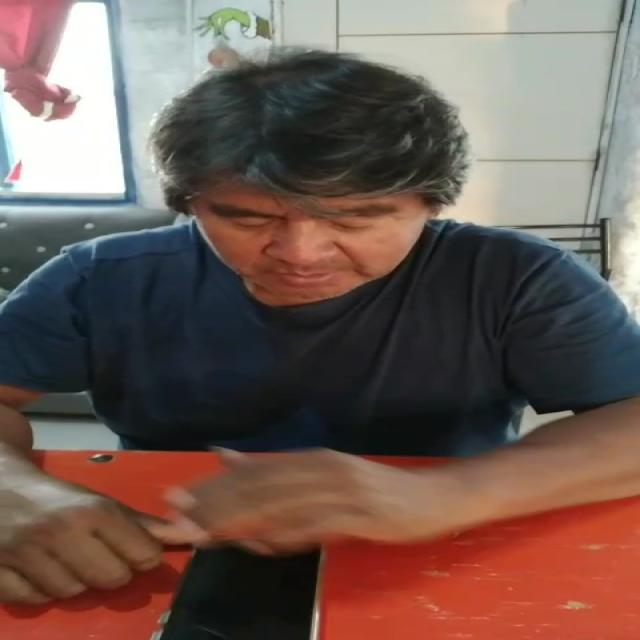9_cabeza_baja: (154, 49, 470, 300)
